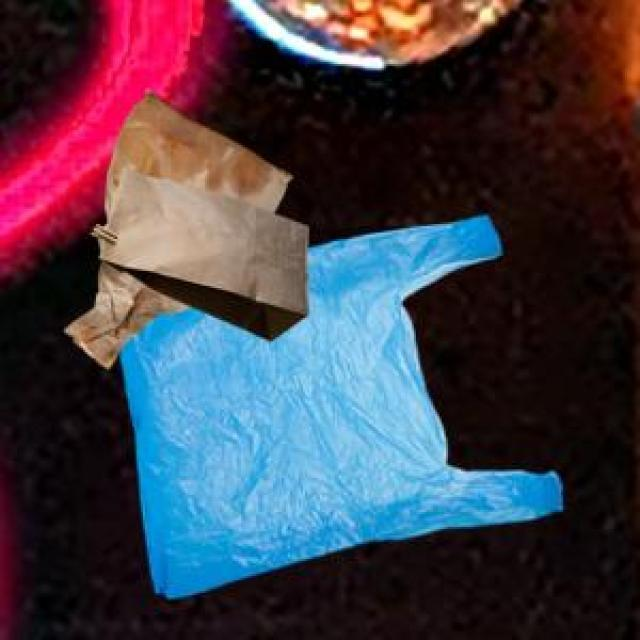paper: (62, 85, 288, 365), (90, 164, 305, 337)
